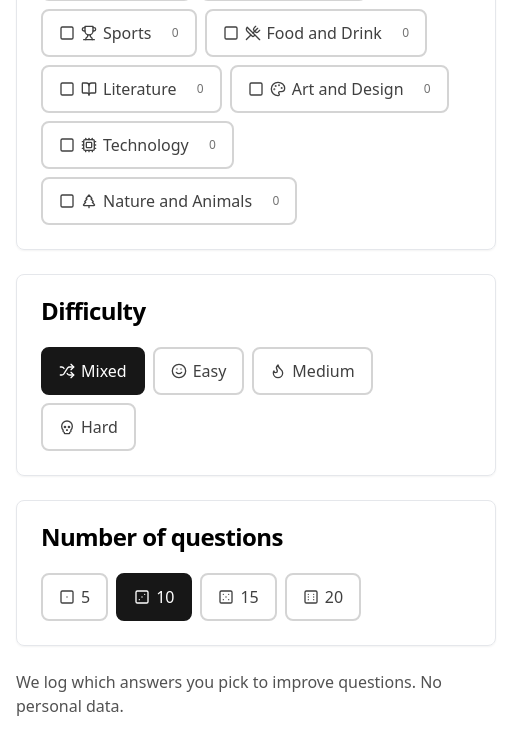
Setup screen › updates pill counts when difficulty changes
(page scrolled)
# Switch to Easy
Click the radio button labelled "Easy": (199, 371) [153, 347, 244, 395]
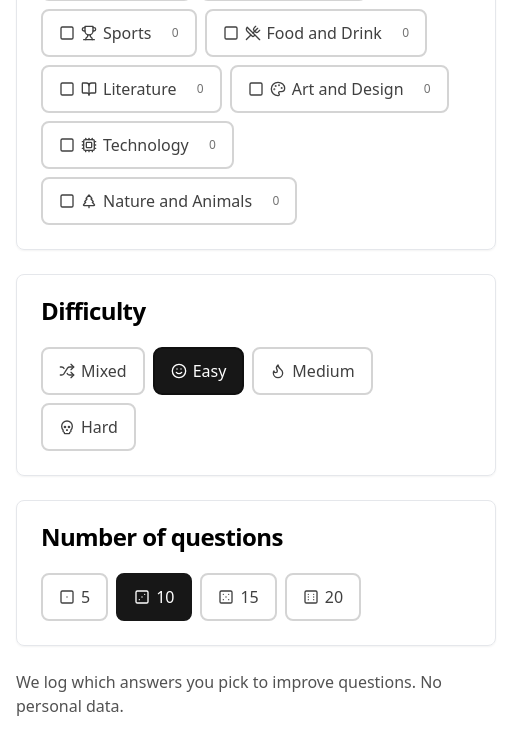
# Switch to Hard
Click the radio button labelled "Hard": (88, 427) [41, 403, 136, 451]
(page scrolled)
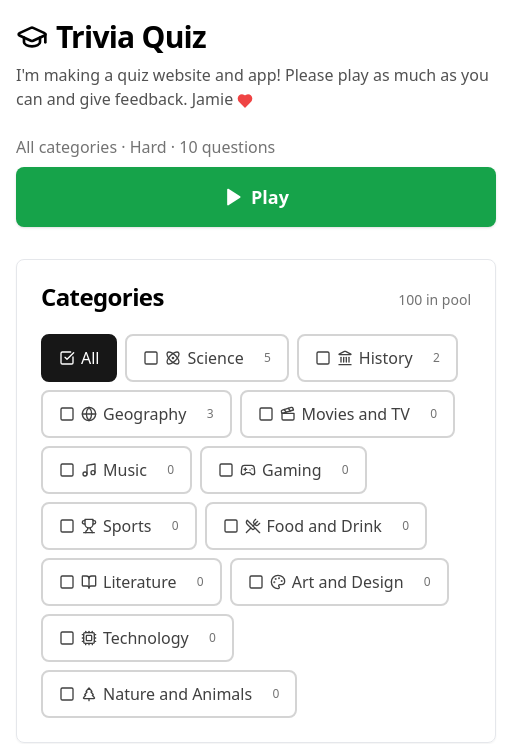
Result: the button "Science 5" is shown at [126, 334, 289, 382]
